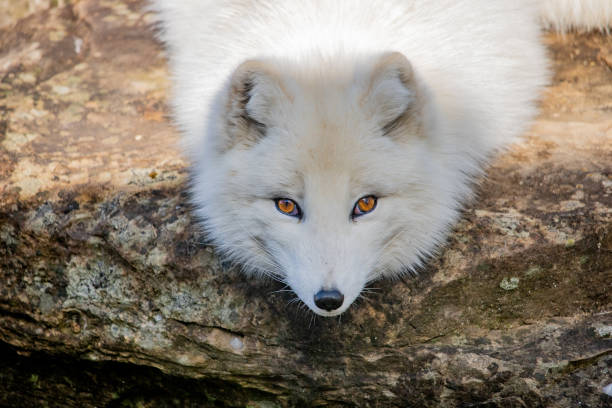arcticfox: (229, 132, 417, 326)
